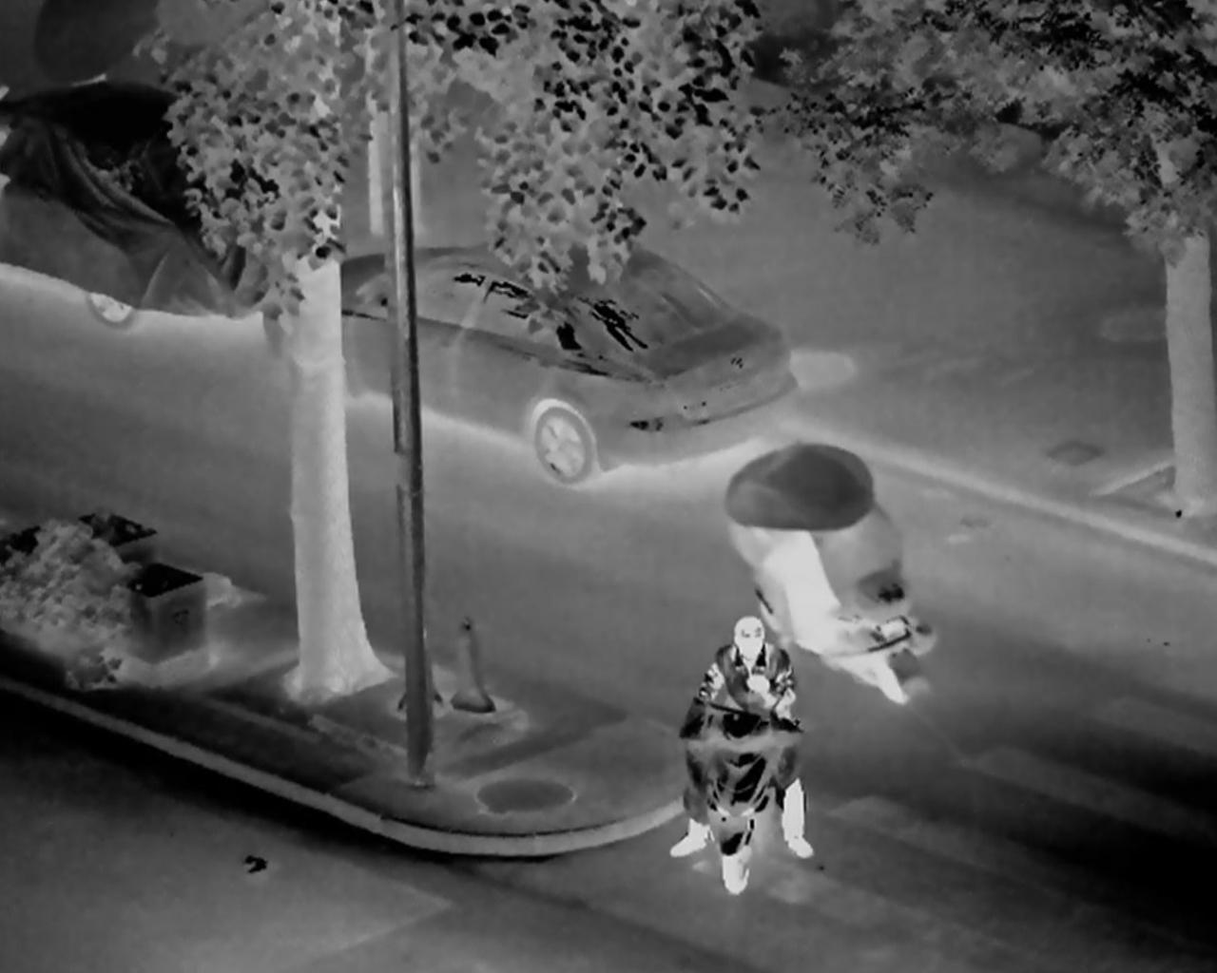person: (657, 602, 799, 864), (772, 528, 843, 645)
